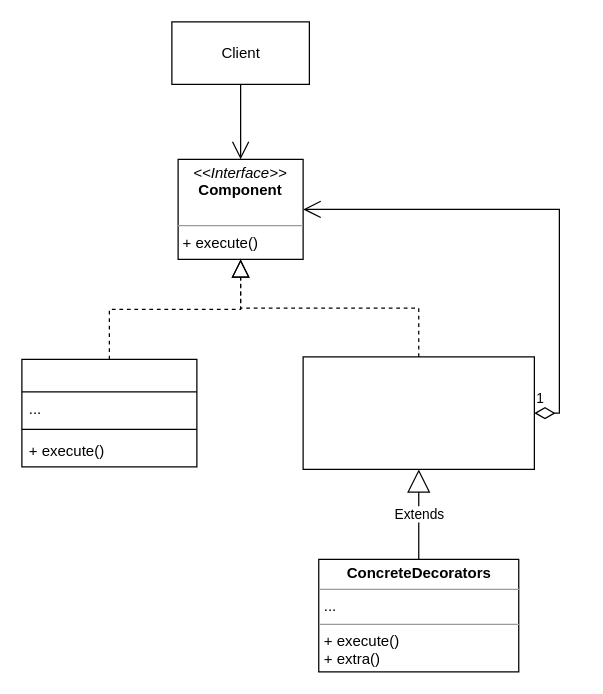
Some shapes in this 603 by 694 pixel diagram are drawn without their labels. The box of each missing label's shape, as (x1, y1, x2, y2) in pixels:
BaseDecorator - delegate: Component + BaseDecorator(c:Component) + execute(): (302, 356, 534, 469)
Concrete Component: (21, 358, 197, 467)
